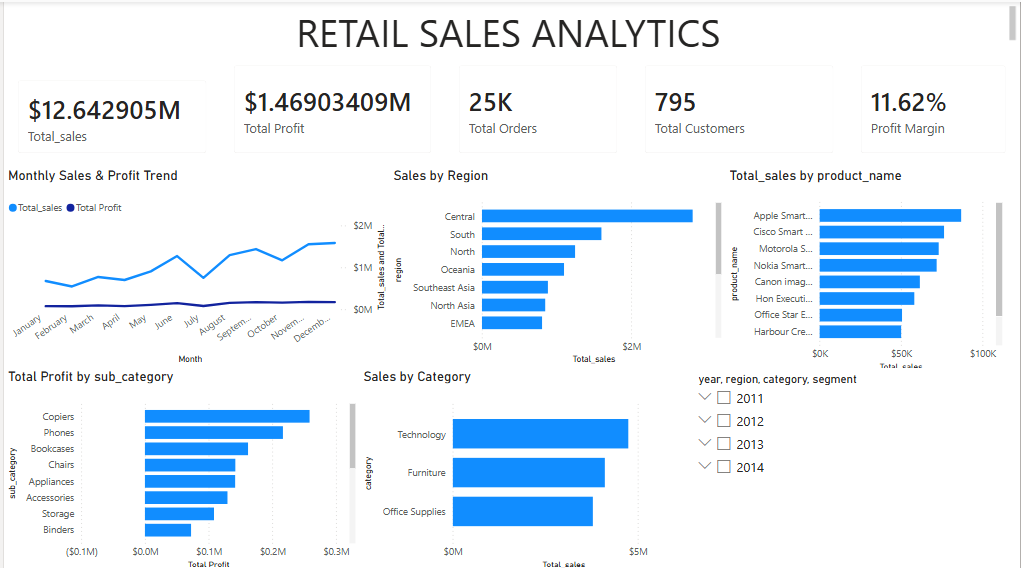

The page's visual inventory and layout, read from the dashboard file:
{"tool":"powerbi","page":{"name":"Executive Sales Dashboard","canvas":[1280,720],"ordinal":0},"visuals":[{"type":"cardVisual","fields":{"Data":["public retail_sales_clean.Total_sales"]},"box":[0,81.3,272.1,126.6],"z":0},{"type":"cardVisual","fields":{"Data":["public retail_sales_clean.Total Profit"]},"box":[272.1,62.4,283.5,145.5],"z":1},{"type":"cardVisual","fields":{"Data":["public retail_sales_clean.Total Orders"]},"box":[555.6,62.4,234.3,145.5],"z":2},{"type":"cardVisual","fields":{"Data":["public retail_sales_clean.Total Customers"]},"box":[789.9,62.4,272.1,145.5],"z":3},{"type":"cardVisual","fields":{"Data":["public retail_sales_clean.Profit Margin"]},"box":[1062.1,62.4,217.3,145.5],"z":4},{"type":"lineChart","title":"Monthly Sales & Profit Trend","fields":{"Category":["public retail_sales_clean.order_date.Variation.Date Hierarchy.Month"],"Y2":["public retail_sales_clean.Total_sales","public retail_sales_clean.Total Profit"]},"box":[0,207.9,485.7,253.2],"z":5},{"type":"clusteredBarChart","title":"Sales by Region","fields":{"Category":["public retail_sales_clean.region"],"Y":["public retail_sales_clean.Total_sales"]},"box":[485.7,207.9,423.3,253.2],"z":6},{"type":"clusteredBarChart","title":"Sales by Category","fields":{"Category":["public retail_sales_clean.category"],"Y":["public retail_sales_clean.Total_sales"]},"box":[447.9,461.1,413.9,258.9],"z":7},{"type":"clusteredBarChart","fields":{"Category":["public retail_sales_clean.sub_category"],"Y":["public retail_sales_clean.Total Profit"]},"box":[0,461.1,447.9,258.9],"z":8},{"type":"clusteredBarChart","fields":{"Category":["public retail_sales_clean.product_name"],"Y":["public retail_sales_clean.Total_sales"]},"box":[909,207.9,353.4,262.7],"z":9},{"type":"slicer","fields":{"Values":["public retail_sales_clean.year","public retail_sales_clean.region","public retail_sales_clean.category","public retail_sales_clean.segment"]},"box":[861.7,461.1,417.6,258.9],"z":10},{"type":"textbox","box":[0,0,1279.4,62.4],"z":11}]}

Visuals, with their boxes in screenshot pixels (x1, y1, x2, y2), scaled from the page's 1280x720 canvas onto the 1021x568 screenshot:
cardVisual - public retail_sales_clean.Total_sales: l=0, t=64, r=217, b=164
cardVisual - public retail_sales_clean.Total Profit: l=217, t=49, r=443, b=164
cardVisual - public retail_sales_clean.Total Orders: l=443, t=49, r=630, b=164
cardVisual - public retail_sales_clean.Total Customers: l=630, t=49, r=847, b=164
cardVisual - public retail_sales_clean.Profit Margin: l=847, t=49, r=1020, b=164
"Monthly Sales & Profit Trend" lineChart: l=0, t=164, r=387, b=364
"Sales by Region" clusteredBarChart: l=387, t=164, r=725, b=364
"Sales by Category" clusteredBarChart: l=357, t=364, r=687, b=567
clusteredBarChart - public retail_sales_clean.sub_category x public retail_sales_clean.Total Profit: l=0, t=364, r=357, b=567
clusteredBarChart - public retail_sales_clean.product_name x public retail_sales_clean.Total_sales: l=725, t=164, r=1007, b=371
slicer - public retail_sales_clean.year x public retail_sales_clean.region: l=687, t=364, r=1020, b=567
textbox: l=0, t=0, r=1020, b=49
